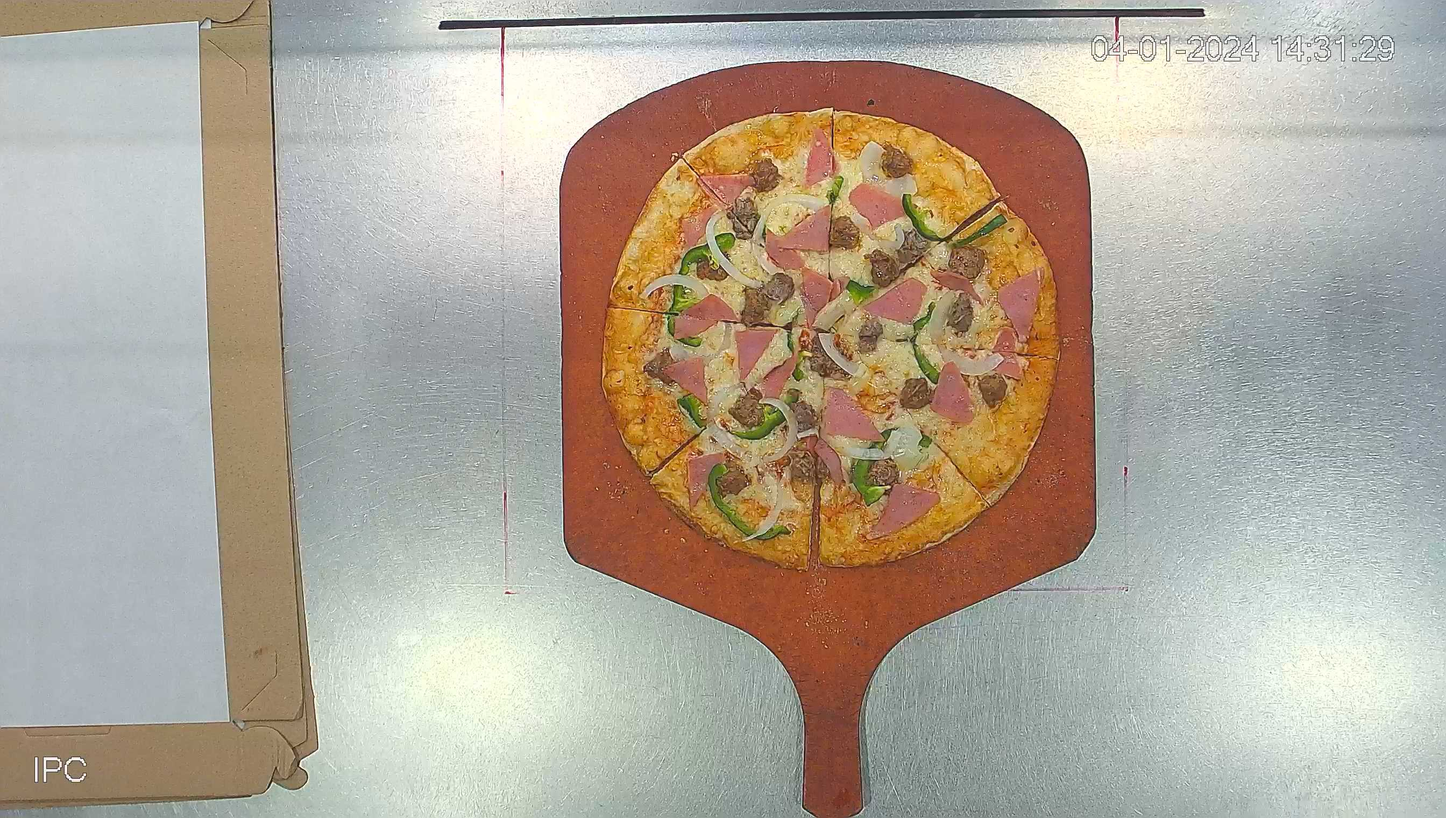hawaiian: (601, 107, 1060, 569)
